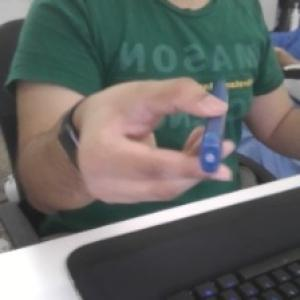Diamond-E-Ciggirate: (197, 77, 234, 176)
